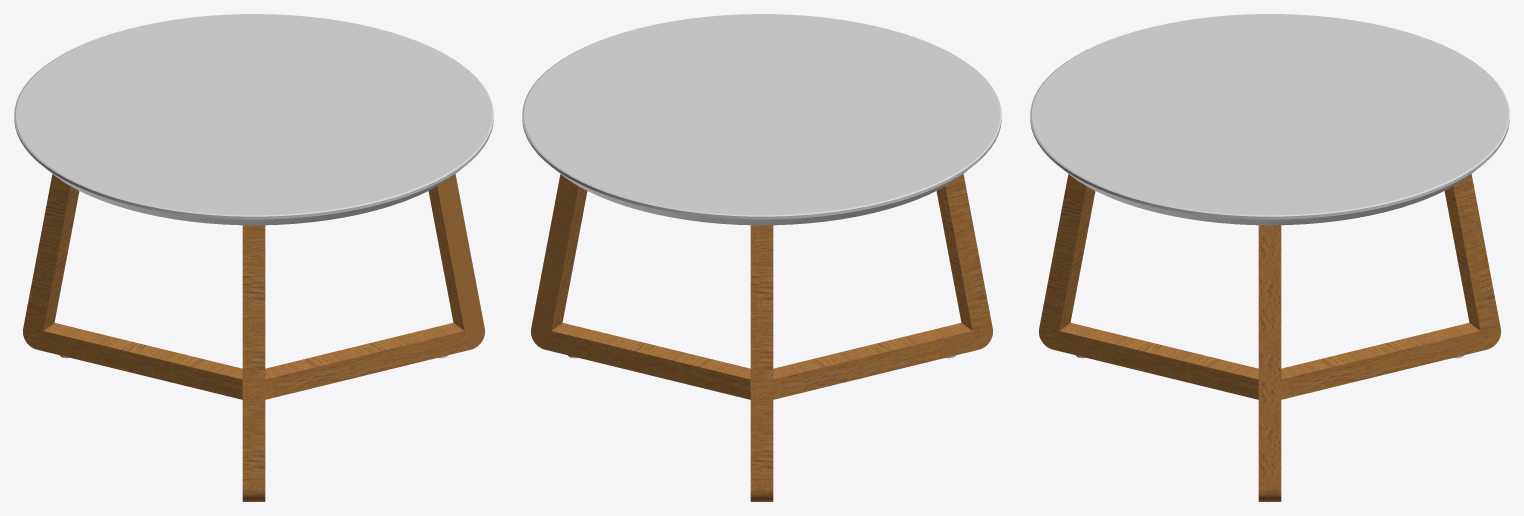
The model's file is coffee_table_marina.glb.
The picture shows the model from 3 angles, left to right: view 1: azimuth 30°, elevation 25°; view 2: azimuth 150°, elevation 25°; view 3: azimuth 270°, elevation 25°; orthographic projection.
Parts seen in each view (by area): view 1: Object_3, Object_4; view 2: Object_3, Object_4; view 3: Object_3, Object_4.
Boxes of the visible parts, box(x1,y1,x2,y2) form: Object_3: box(14, 14, 493, 358); Object_4: box(23, 174, 484, 501); Object_3: box(522, 14, 1001, 358); Object_4: box(531, 174, 992, 501); Object_3: box(1030, 14, 1509, 358); Object_4: box(1039, 174, 1500, 501).
Bounding box in the file's own units: 626 × 395 × 600.
3 materials, 1 textured.
